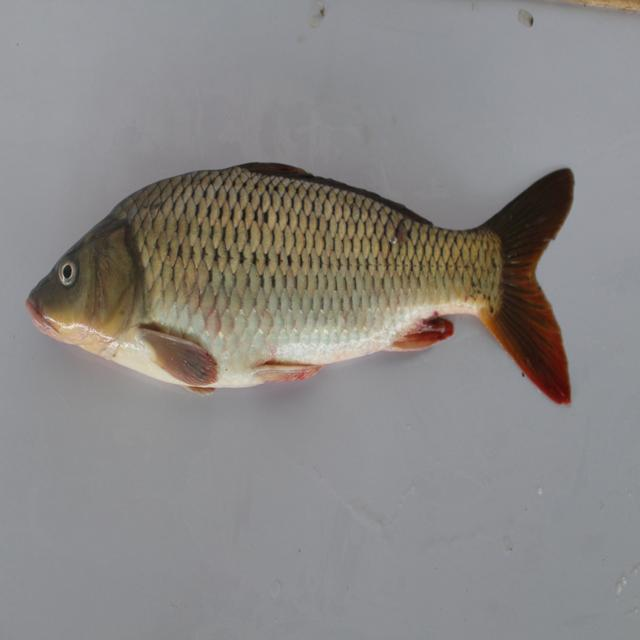CommonCarp: (22, 139, 604, 427)
